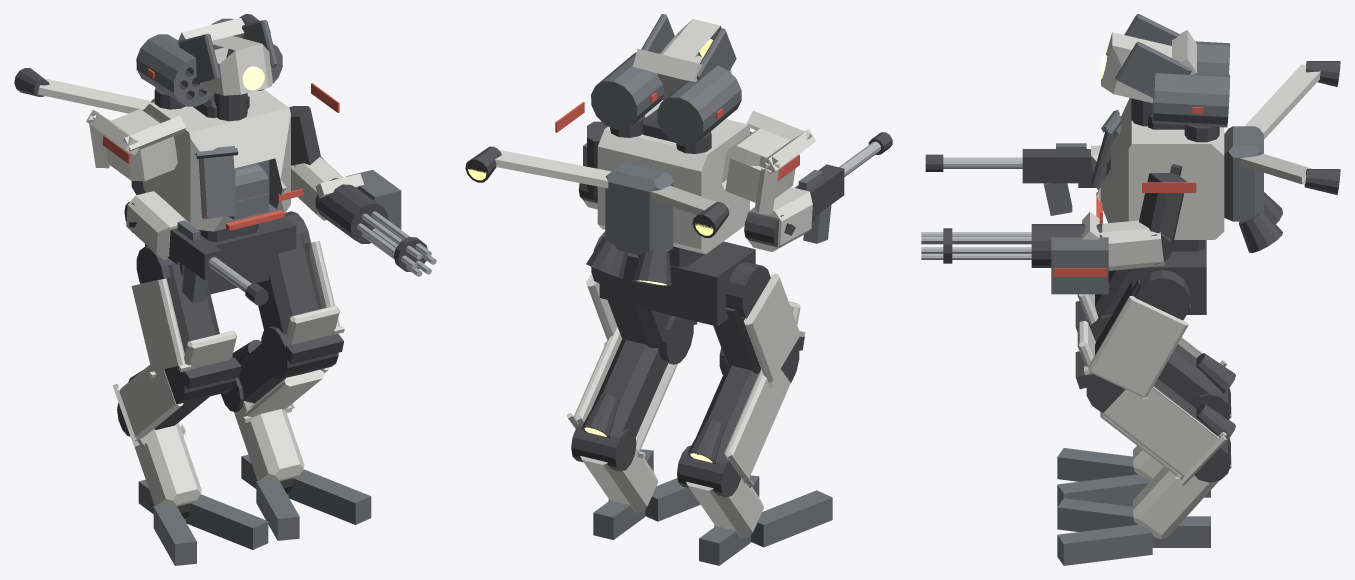
Rendered from swift.glb.
3 renders of one model, left to right at view 1: azimuth 30°, elevation 25°; view 2: azimuth 150°, elevation 25°; view 3: azimuth 270°, elevation 25°, orthographic. The views are drawn at different scales.
Parts seen in each view (by area): view 1: core, shoulder-1, thigh1, meta-1, meta1, hips, helm, thigh-1_out, thigh-1, rockets-1, shin-1_out, claw10 (+29 smaller); view 2: core, hips, shoulder-1, pack, rockets-1, shin1, thigh-1_out, rockets1, shin-1_out, helm, claw-11, meta1 (+31 smaller); view 3: core, thigh1_out, shin1_out, rockets1, pack, meta1, claw10, forearm1, gatling1_drum, helm, rifle-1_rec, claw11 (+33 smaller).
Part boxes in pixels (bbox=[...]): core: bbox=[143, 89, 290, 231]; shoulder-1: bbox=[86, 109, 186, 181]; thigh1: bbox=[255, 233, 343, 363]; meta-1: bbox=[134, 422, 201, 507]; meta1: bbox=[234, 401, 304, 482]; hips: bbox=[145, 217, 296, 294]; helm: bbox=[177, 18, 272, 95]; thigh-1_out: bbox=[131, 278, 191, 378]; thigh-1: bbox=[168, 263, 241, 389]; rockets-1: bbox=[136, 34, 213, 106]; shin-1_out: bbox=[112, 364, 183, 447]; claw10: bbox=[288, 469, 371, 524]; core: bbox=[597, 103, 749, 254]; hips: bbox=[599, 241, 755, 326]; shoulder-1: bbox=[721, 110, 816, 214]; pack: bbox=[605, 162, 673, 255]; rockets-1: bbox=[657, 65, 741, 145]; shin1: bbox=[584, 339, 667, 438]; thigh-1_out: bbox=[743, 273, 805, 387]; rockets1: bbox=[591, 52, 664, 129]; shin-1_out: bbox=[724, 369, 790, 487]; helm: bbox=[633, 19, 731, 100]; claw-11: bbox=[751, 490, 832, 547]; meta1: bbox=[580, 448, 658, 512]; core: bbox=[1096, 98, 1224, 239]; thigh1_out: bbox=[1084, 296, 1188, 403]; shin1_out: bbox=[1101, 386, 1227, 485]; rockets1: bbox=[1152, 73, 1230, 127]; pack: bbox=[1224, 126, 1263, 221]; meta1: bbox=[1133, 456, 1231, 538]; claw10: bbox=[1057, 524, 1152, 565]; forearm1: bbox=[1082, 212, 1164, 270]; gatling1_drum: bbox=[1051, 237, 1108, 294]; helm: bbox=[1101, 30, 1196, 103]; rifle-1_rec: bbox=[1022, 149, 1092, 183]; claw11: bbox=[1057, 498, 1137, 531].
Size of the model in its own units: 12.87 by 24.49 by 19.02.
